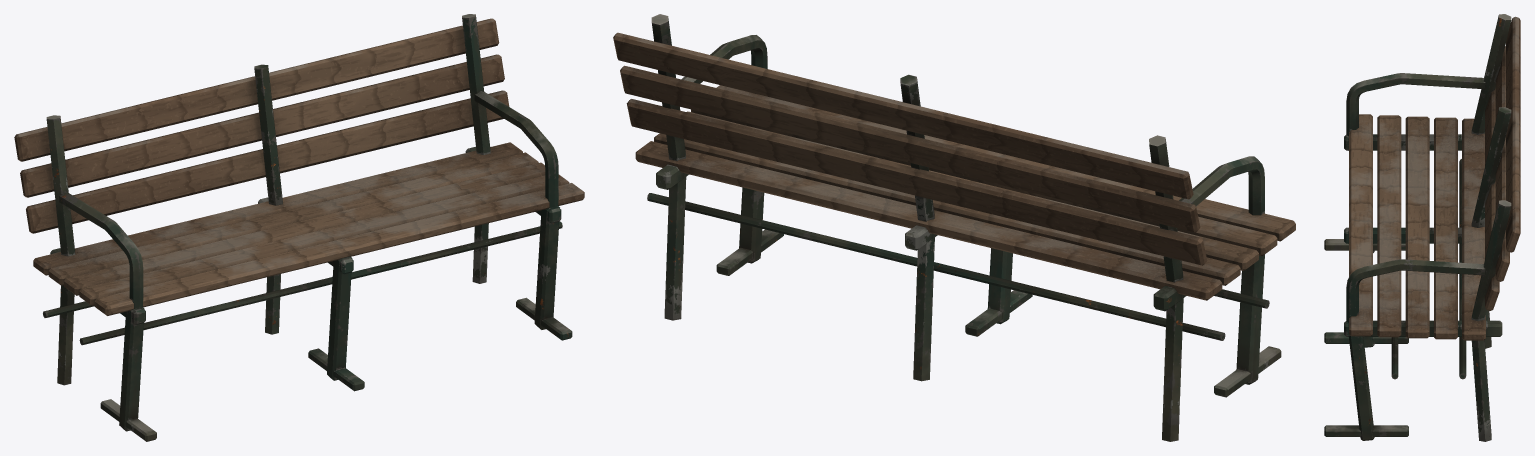
The model's file is PlatformBench.fbx.
The picture shows the model from 3 angles, left to right: view 1: azimuth 30°, elevation 25°; view 2: azimuth 150°, elevation 25°; view 3: azimuth 270°, elevation 25°; orthographic projection. The views are drawn at different scales.
Visible parts, largest first — view 1: PlatformBench; view 2: PlatformBench; view 3: PlatformBench.
Part boxes in pixels (x1,y1,x2,y2): PlatformBench: (14,14,584,441); PlatformBench: (613,14,1295,441); PlatformBench: (1324,14,1520,441).
Size of the model in its own units: 5.4 by 2.78 by 2.08.
1 material, 1 textured.
